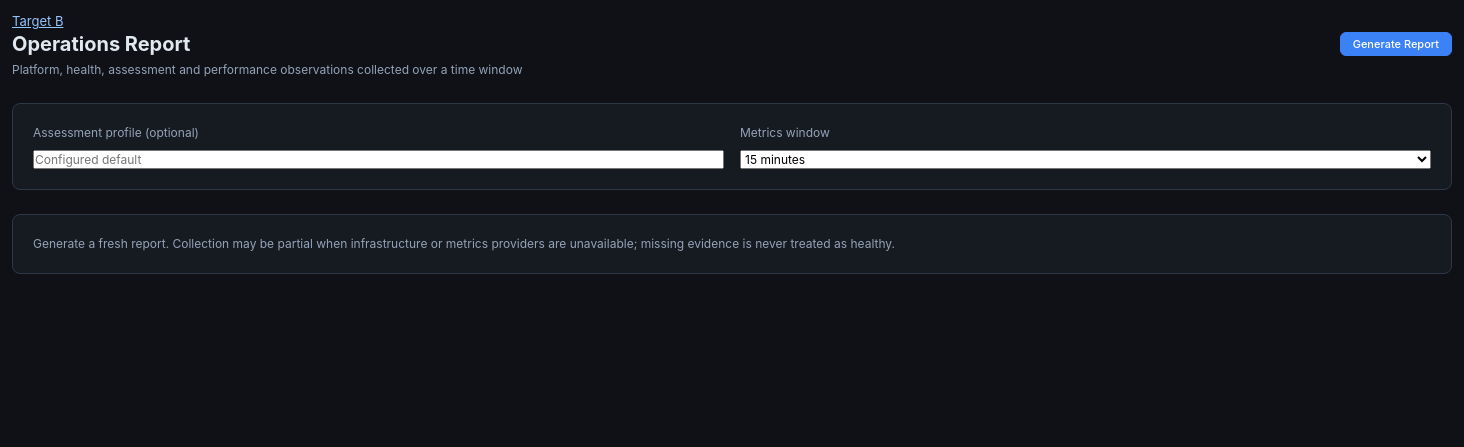
it: OperationsReportPage › rejects a report returned for another target
Click the button "Generate Report". click: (1396, 44)
box: [1340,32,1452,56]
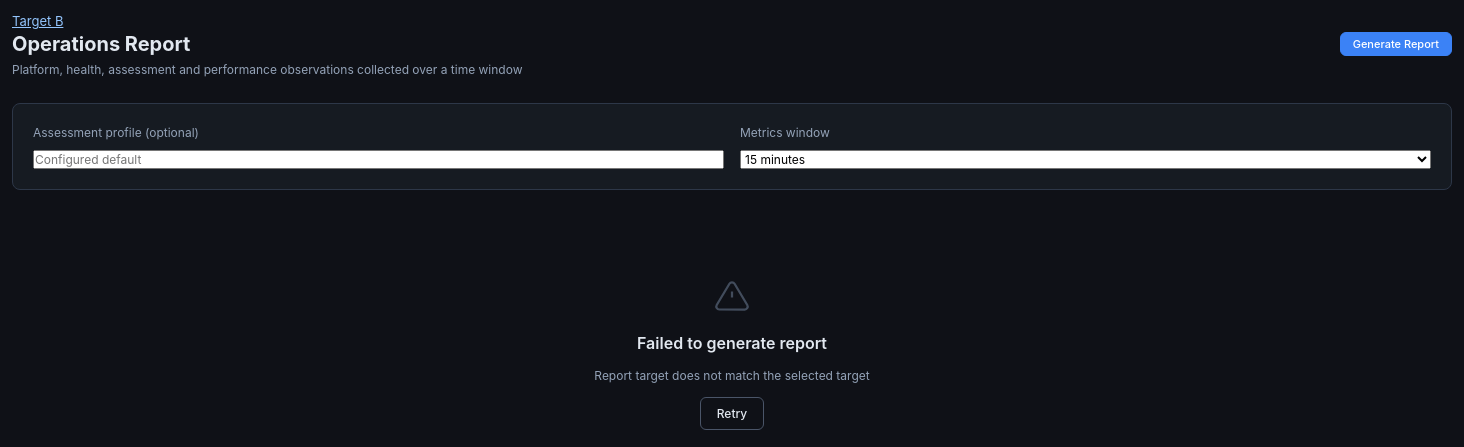
Now the text "Report target does not match the selected target" is shown, box [594,367,870,385]
